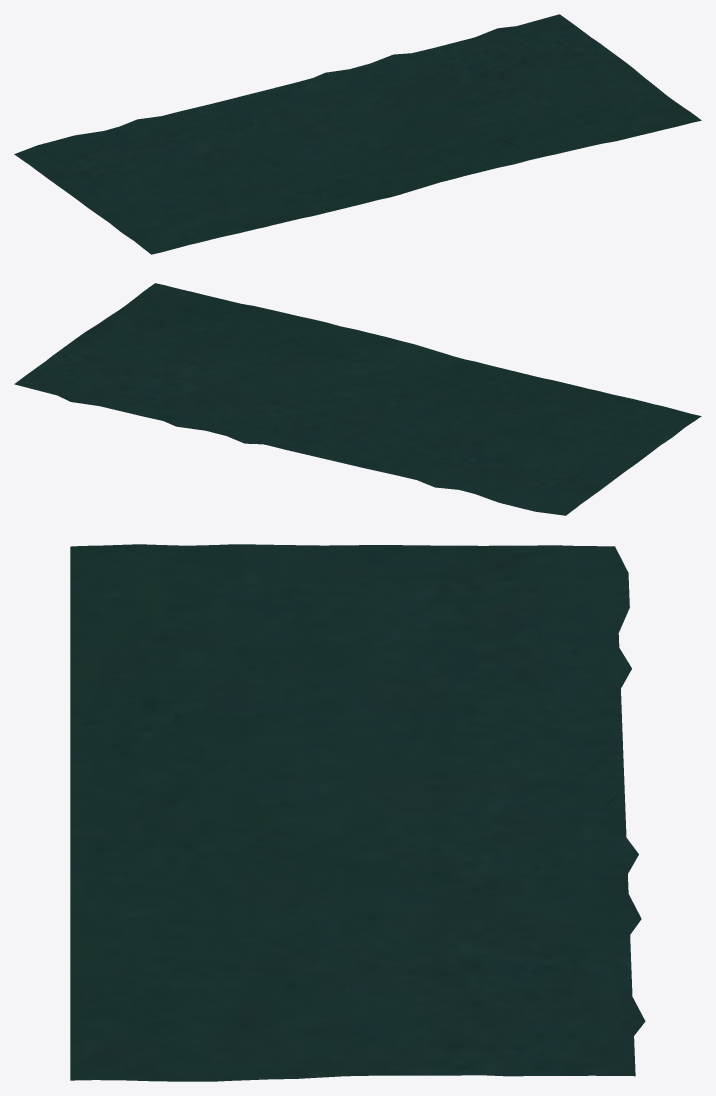
3 renders of one model, top to bottom at view 1: azimuth 30°, elevation 25°; view 2: azimuth 150°, elevation 25°; view 3: azimuth 270°, elevation 25°, orthographic. The views are drawn at different scales.
Size of the model in its own units: 104 by 0.8553 by 47.58.
Materials: 1 (1 with a texture image).
